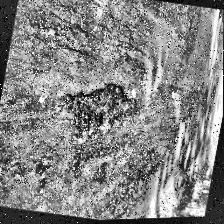pothole: (56, 75, 140, 153)
